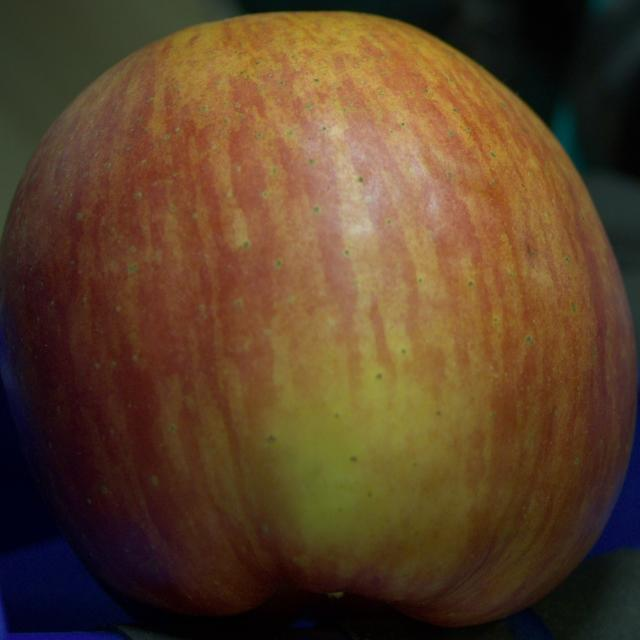apple: (0, 12, 636, 625)
